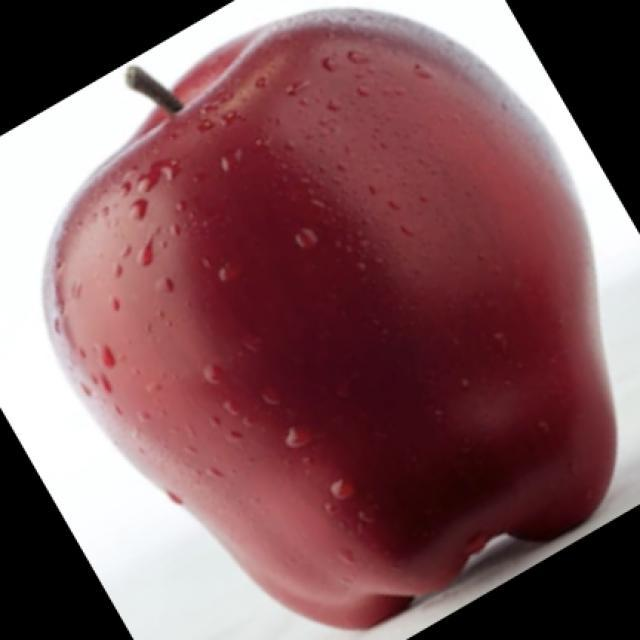Fresh Apple: (47, 6, 626, 628)
